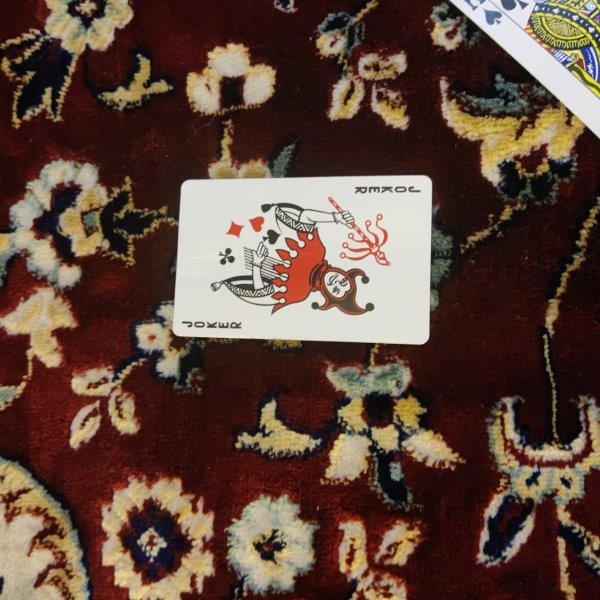Joker: (171, 174, 430, 346)
King of Spades: (450, 1, 600, 138)
